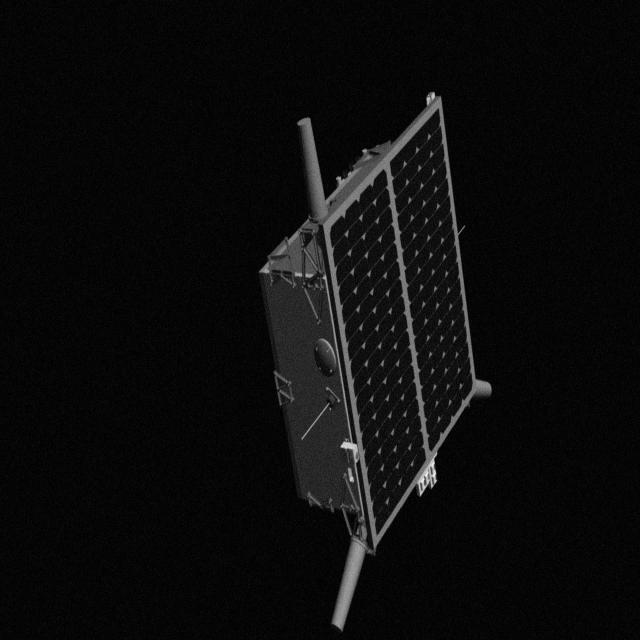medium_debris: (268, 84, 498, 630)
